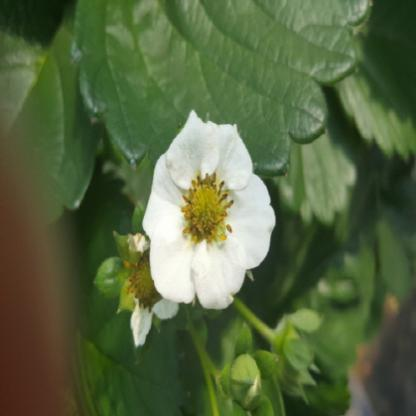Strawberry_Blossom_Blight: (178, 167, 238, 248)
